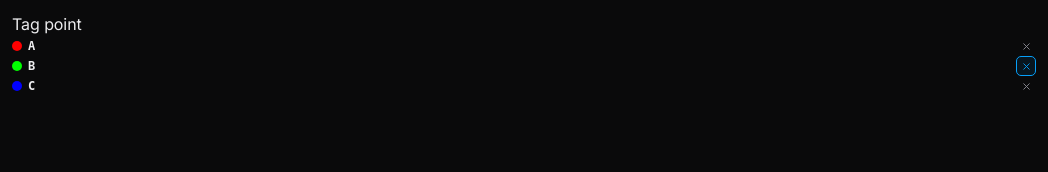
Test: TaggedPointList keyboard focus after a remove (the focused row unmounts) › moves focus to the NEXT row’s × when a middle row is removed
The image size is (1048, 172).
Step 1. Click the button named "Remove tag ② B" → coordinates (1026, 66), box [1016,56,1036,76]
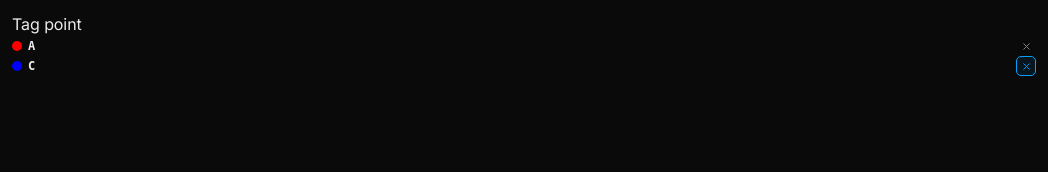
Result: the text "B" is gone
